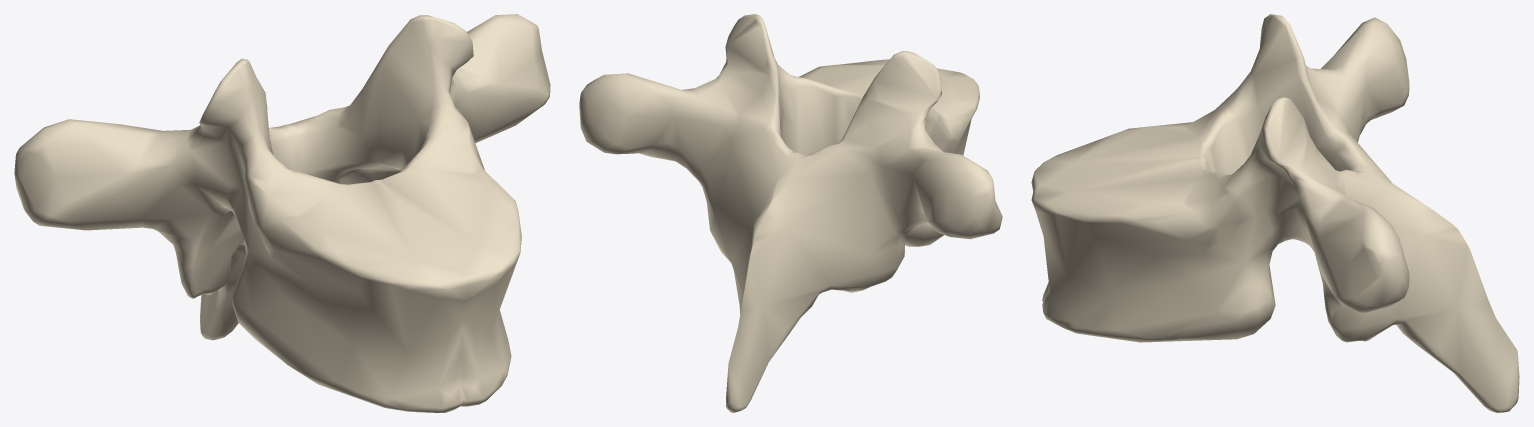
The model's file is vertebra-t5.glb.
3 renders of one model, left to right at view 1: azimuth 30°, elevation 25°; view 2: azimuth 150°, elevation 25°; view 3: azimuth 270°, elevation 25°, orthographic. The views are drawn at different scales.
Parts seen in each view (by area): view 1: Vertebra T5; view 2: Vertebra T5; view 3: Vertebra T5.
Part boxes in pixels (left/top/right/bottom): Vertebra T5: left=14, top=14, right=550, bottom=412; Vertebra T5: left=579, top=14, right=1002, bottom=412; Vertebra T5: left=1031, top=14, right=1519, bottom=412.
Size of the model in its own units: 0.0754 by 0.0533 by 0.0666.
